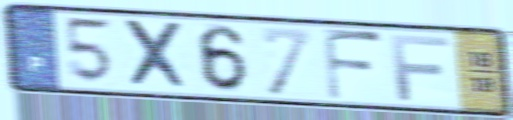5: (61, 14, 117, 88)
6: (194, 22, 250, 95)
7: (259, 25, 316, 98)
F: (320, 25, 387, 103), (388, 33, 453, 104)
X: (119, 17, 194, 93)
